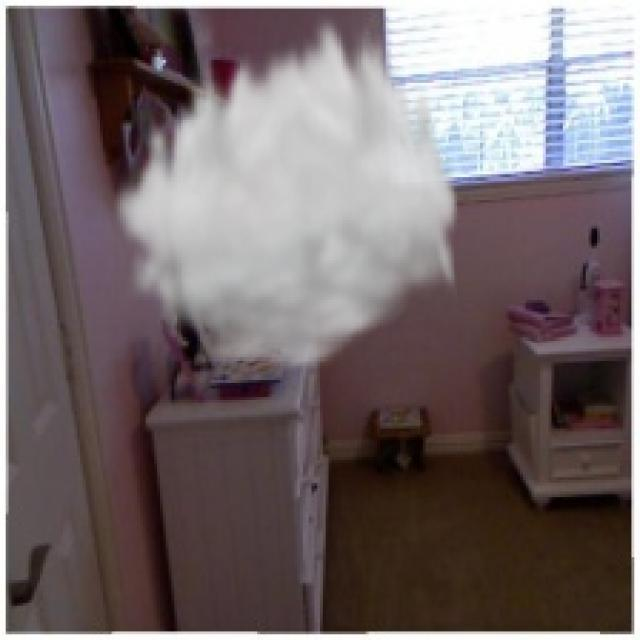Smoke: (108, 6, 463, 377)
